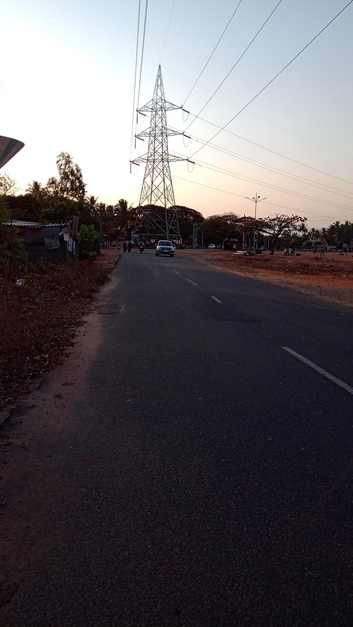bump: (118, 250, 182, 253)
